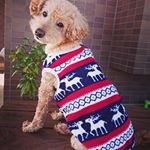puppy: (20, 1, 140, 150)
